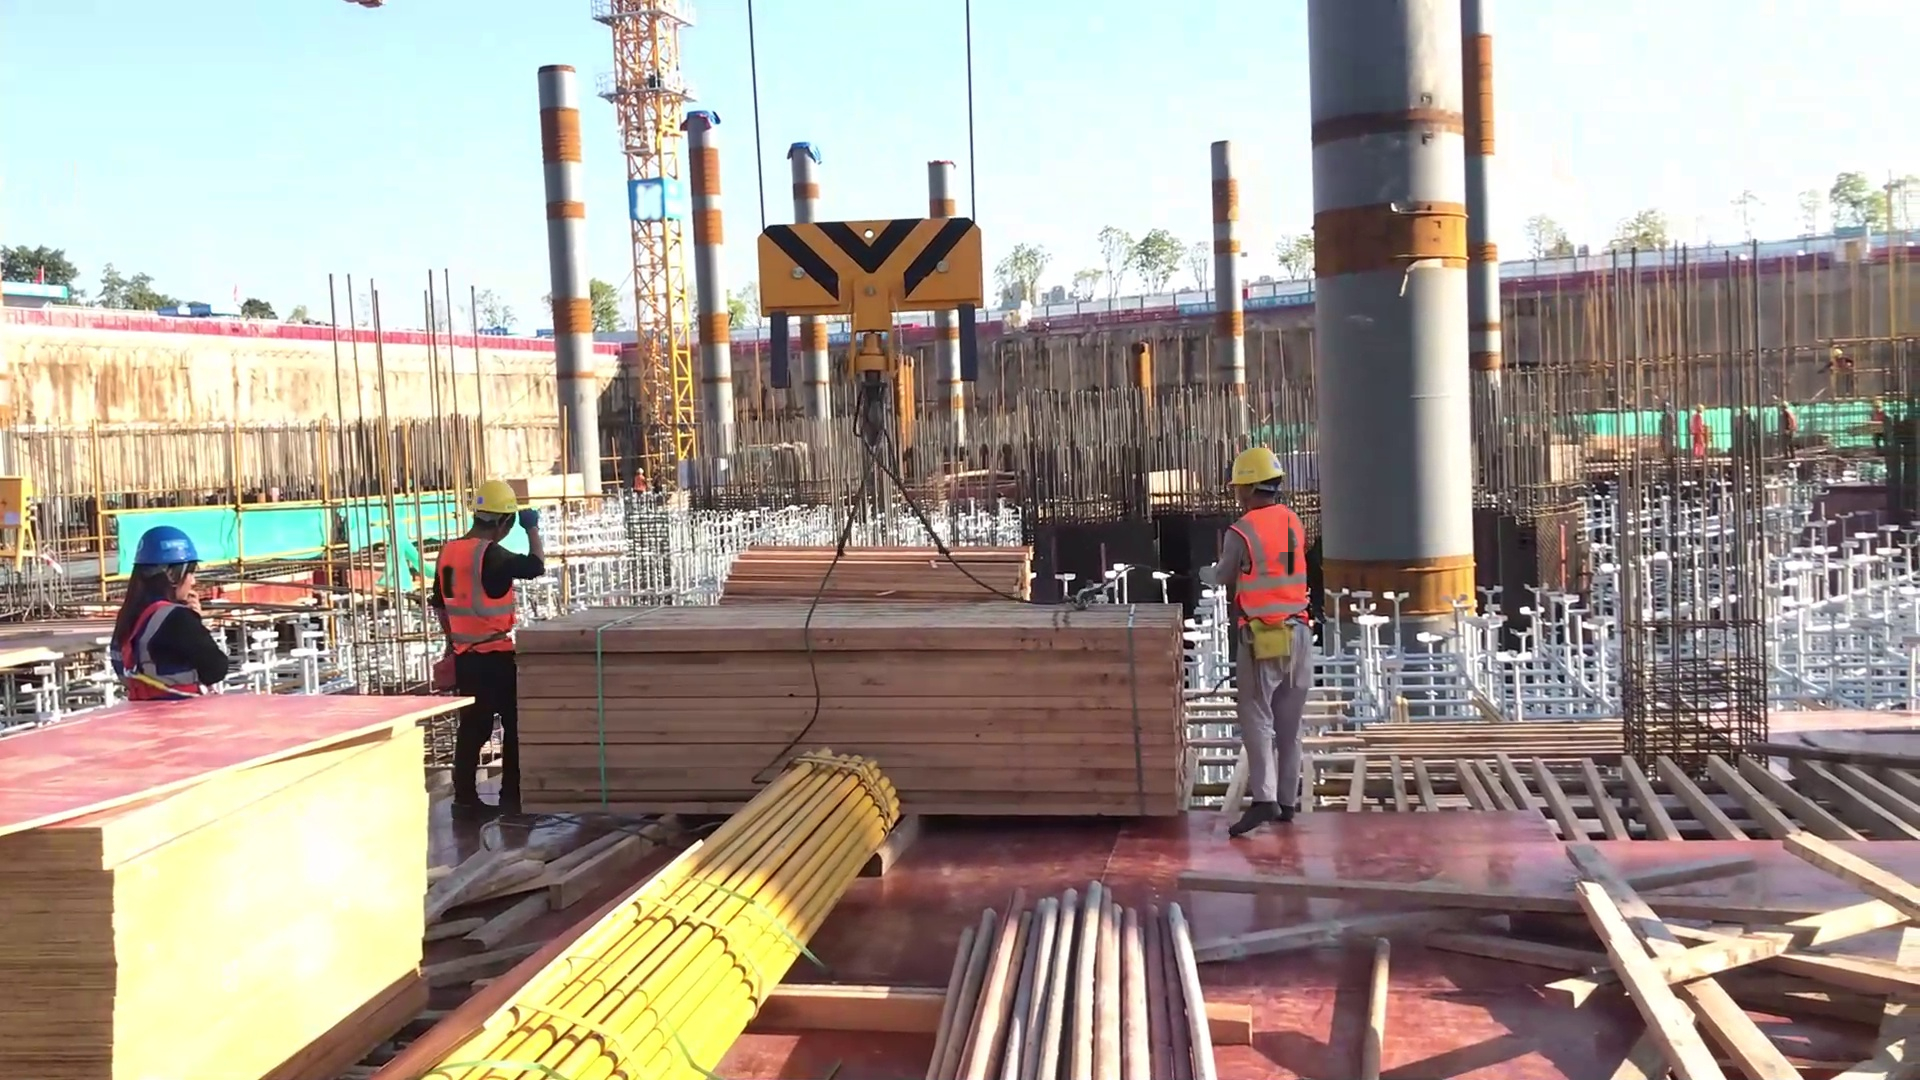board: (1, 673, 490, 1077)
ebox: (1, 462, 46, 564)
helmet: (121, 526, 206, 584), (1217, 438, 1298, 483), (459, 470, 520, 520)
hook: (746, 203, 1000, 434)
person: (411, 462, 558, 827), (1198, 445, 1332, 829), (108, 518, 227, 708)
rebar: (901, 884, 1239, 1080)
vest: (417, 524, 525, 656), (1215, 503, 1309, 630), (94, 596, 206, 699)
wood: (502, 592, 1198, 826)
